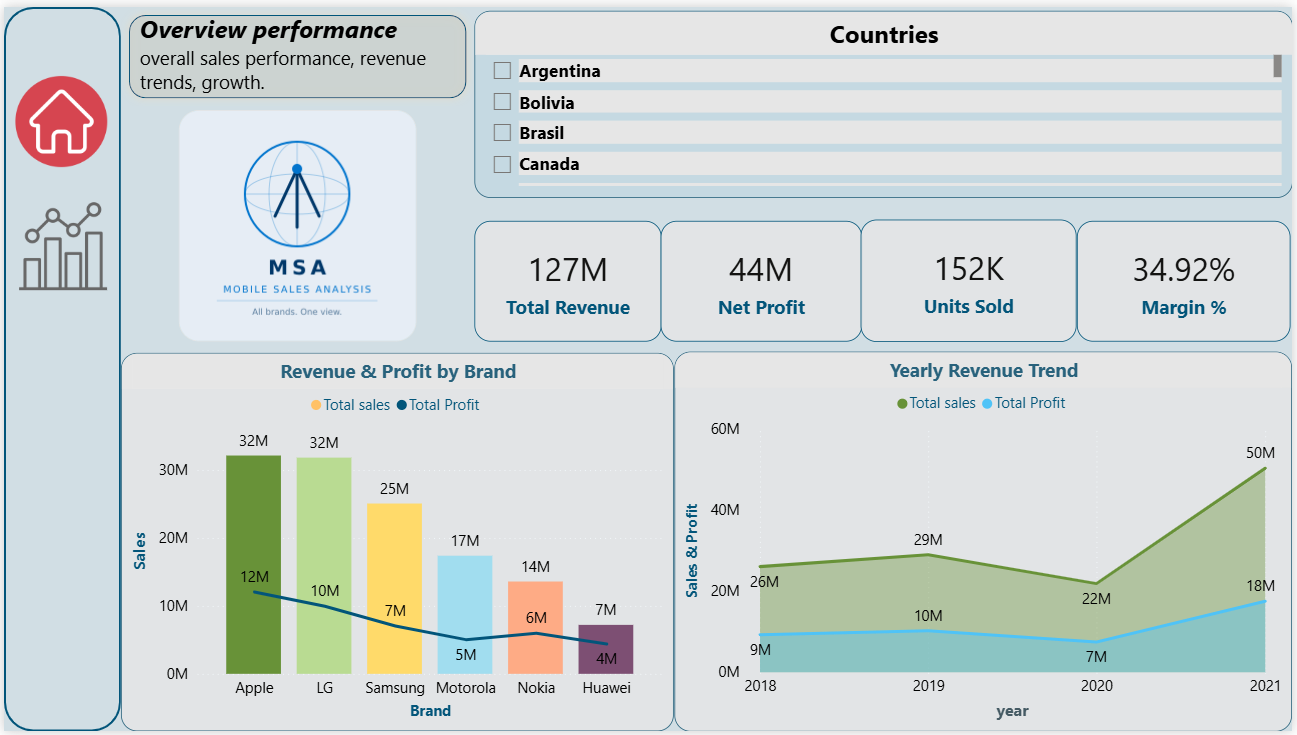

The dashboard page shown, as its layout file describes it:
{"tool":"powerbi","page":{"name":"Overview Performance","canvas":[1280,720],"ordinal":0},"visuals":[{"type":"card","title":"Total Sales","fields":{"Values":["Phone Sales.Total sales"]},"box":[467.1,212.3,185.6,120.1],"z":0},{"type":"areaChart","title":"Yearly Revenue Trend","fields":{"Category":["Phone Sales.Date.Variation.Date Hierarchy.Year","Phone Sales.Date.Variation.Date Hierarchy.Quarter","Phone Sales.Date.Variation.Date Hierarchy.Month","Phone Sales.Date.Variation.Date Hierarchy.Day"],"Y":["Phone Sales.Total sales","Phone Sales.Total Profit"]},"box":[666.1,342.2,613.9,377.3],"z":1000},{"type":"card","title":"Total Profit","fields":{"Values":["Phone Sales.Total Profit"]},"box":[652.8,212.3,200.2,120.1],"z":2000},{"type":"card","title":"Total Units Sold","fields":{"Values":["Phone Sales.Total Units Sold"]},"box":[851.8,211.1,214.8,121.3],"z":3000},{"type":"lineClusteredColumnComboChart","title":"Revenue & Profit by Brand","fields":{"Category":["Phone Sales.Brand"],"Y":["Phone Sales.Total sales"],"Y2":["Phone Sales.Total Profit"]},"box":[116.5,343.4,549.6,376.1],"z":4000},{"type":"slicer","title":"Countries","fields":{"Values":["Phone Sales.Country"]},"box":[467.1,3.6,812.9,185.6],"z":6000},{"type":"card","title":"Profit Margin","fields":{"Values":["Phone Sales.profit_margin %"]},"box":[1066.2,212.5,212.5,120],"z":8000},{"type":"shape","box":[116.2,0,351.2,98.8],"z":10000},{"type":"image","box":[173.8,102.5,236.2,230],"z":12000},{"type":"textbox","box":[130,0,323.8,98.8],"z":13000},{"type":"shape","box":[0,0,116.2,720],"z":14000},{"type":"image","box":[15,190,87.5,95],"z":14500},{"type":"image","box":[11.2,55,91.2,117.5],"z":15500}]}

Visuals, with their boxes in screenshot pixels (x1, y1, x2, y2), scaled from the page's 1280x720 canvas onto the 1297x735 screenshot:
"Total Sales" card: box=[473, 217, 661, 339]
"Yearly Revenue Trend" areaChart: box=[675, 349, 1296, 734]
"Total Profit" card: box=[661, 217, 864, 339]
"Total Units Sold" card: box=[863, 215, 1081, 339]
"Revenue & Profit by Brand" lineClusteredColumnComboChart: box=[118, 351, 675, 734]
"Countries" slicer: box=[473, 4, 1296, 193]
"Profit Margin" card: box=[1080, 217, 1296, 339]
shape: box=[118, 0, 474, 101]
image: box=[176, 105, 415, 339]
textbox: box=[132, 0, 460, 101]
shape: box=[0, 0, 118, 734]
image: box=[15, 194, 104, 291]
image: box=[11, 56, 104, 176]
